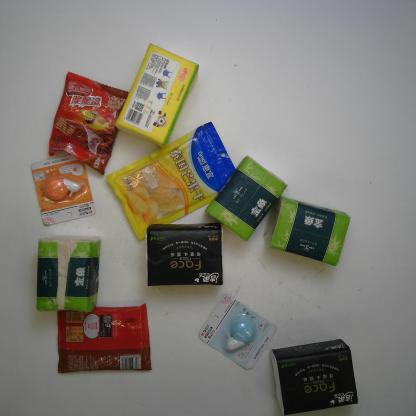Dessert: (46, 70, 130, 174), (55, 303, 154, 374)
Dried Fruit: (105, 121, 241, 241)
Stationery: (197, 294, 276, 370), (31, 154, 96, 227)
Tissue: (113, 42, 200, 148), (204, 154, 288, 240), (270, 338, 358, 413), (263, 195, 351, 267), (33, 235, 101, 314), (144, 224, 225, 286)
